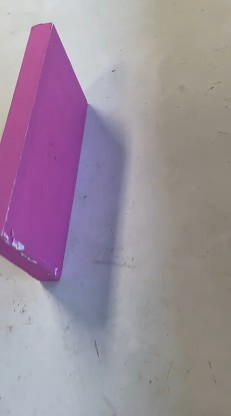pink: (0, 24, 91, 269)
